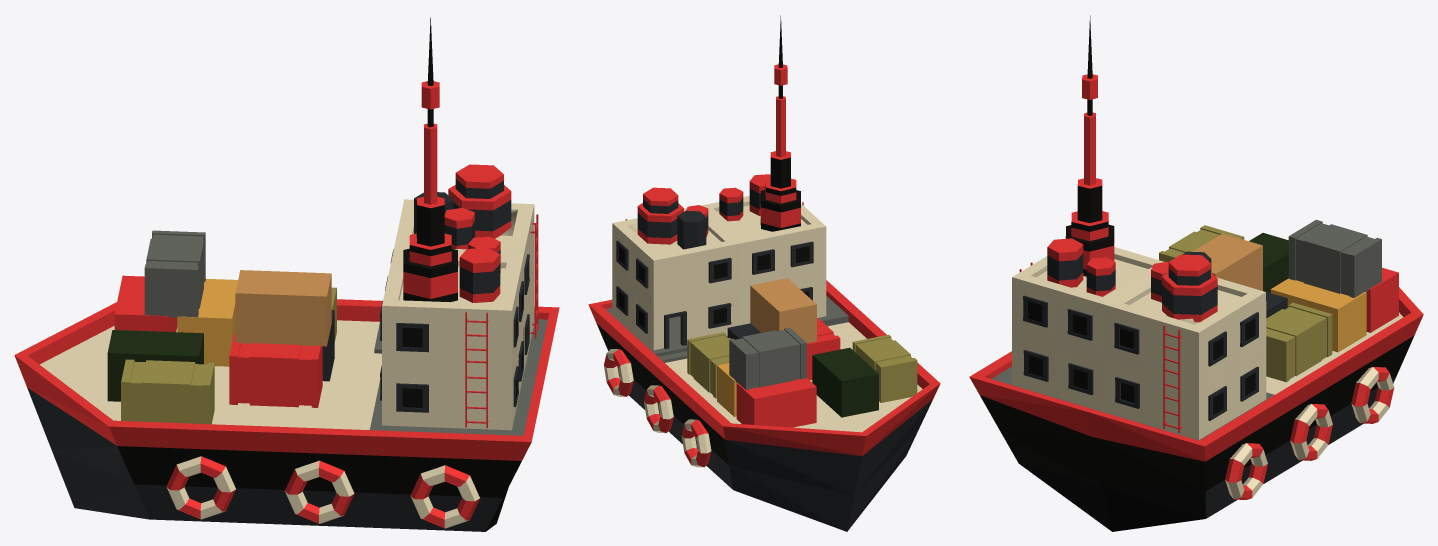
File: cargoship.FBX
The picture shows the model from 3 angles, left to right: view 1: azimuth 30°, elevation 25°; view 2: azimuth 150°, elevation 25°; view 3: azimuth 270°, elevation 25°; orthographic projection. The views are drawn at different scales.
Visible parts, largest first — view 1: cargoship; view 2: cargoship; view 3: cargoship.
Part boxes in pixels (x1,y1,x2,y2): cargoship: [14, 17, 559, 531]; cargoship: [588, 15, 940, 531]; cargoship: [969, 15, 1423, 531].
Bounding box in the file's own units: 73.19 × 81.75 × 69.65.
